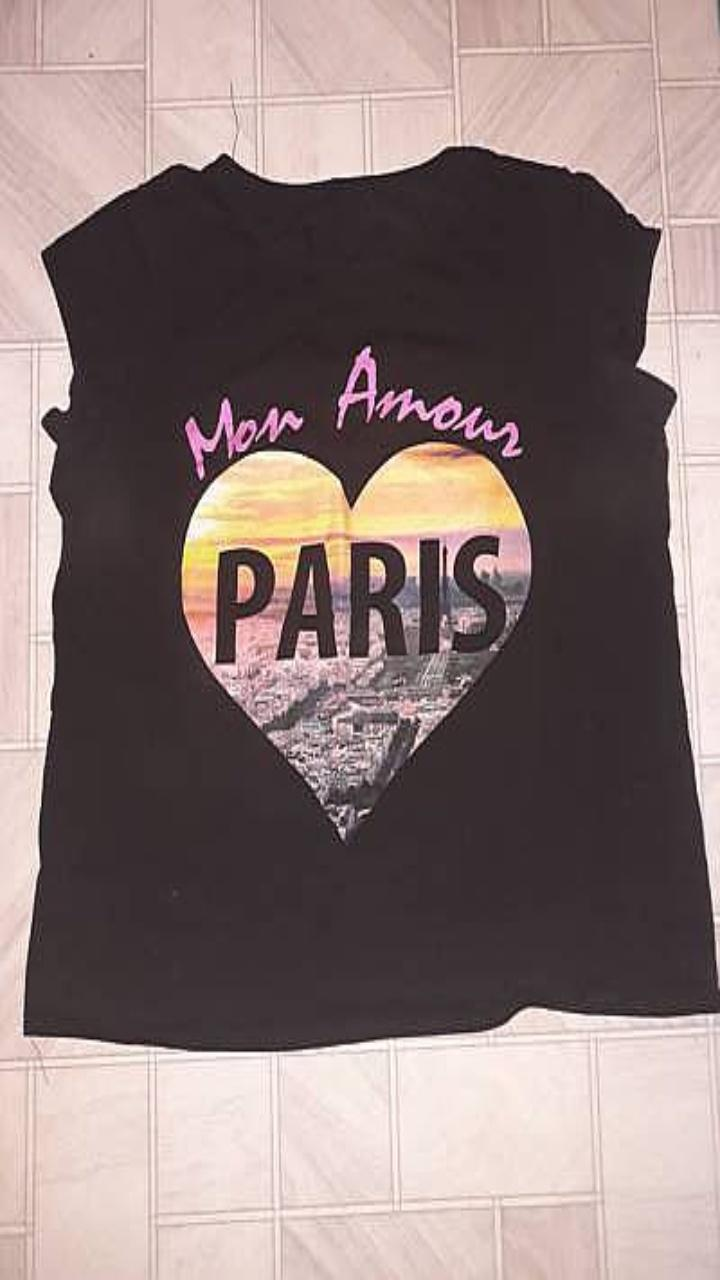T-Shirt: (24, 145, 719, 1049)
